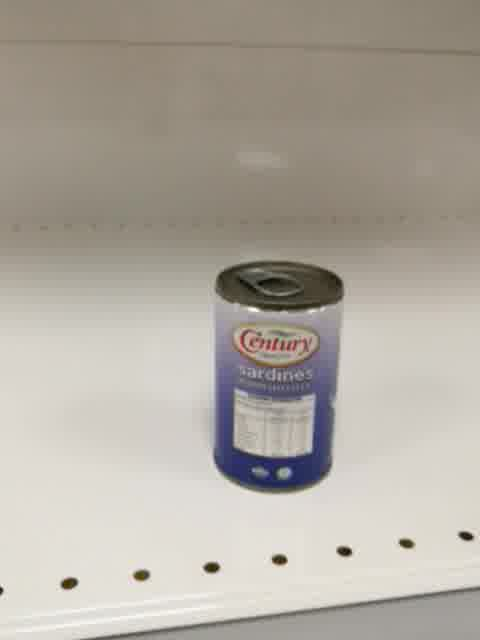sardine: (212, 258, 346, 495)
